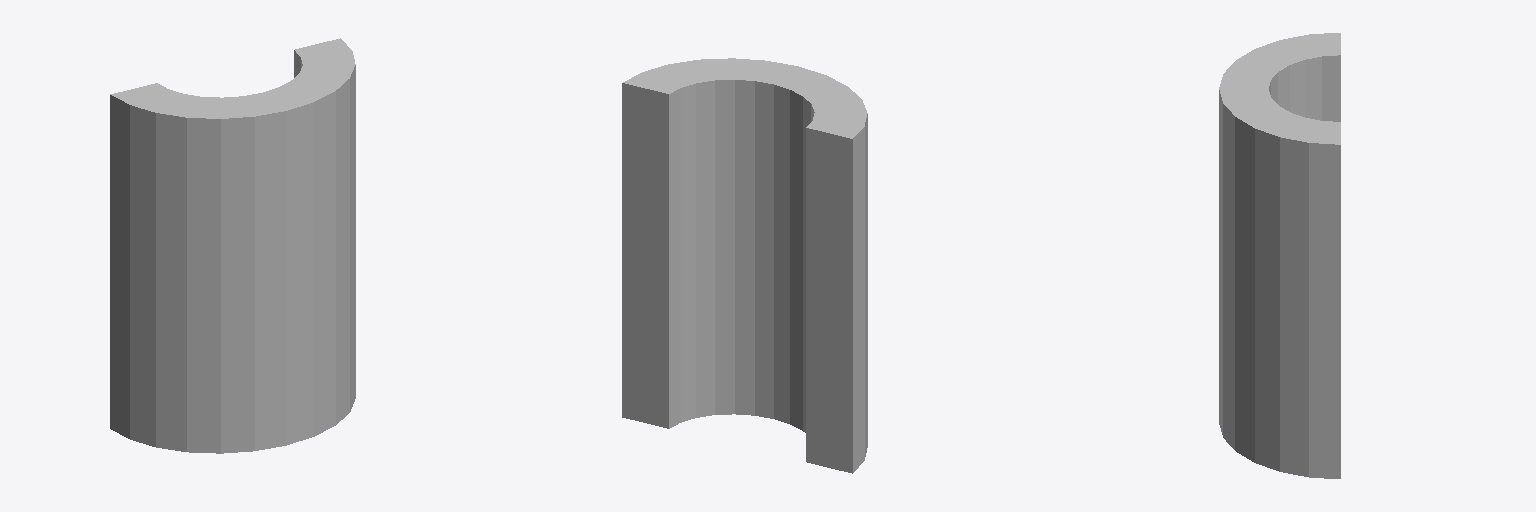
File: 3DM_VacuumTubeDoor.obj
The picture shows the model from 3 angles: view 1: azimuth 30°, elevation 25°; view 2: azimuth 150°, elevation 25°; view 3: azimuth 270°, elevation 25°; orthographic projection.
Parts seen in each view (by area): view 1: cylinderHollow_half; view 2: cylinderHollow_half; view 3: cylinderHollow_half.
Part boxes in pixels (bbox=[...]): cylinderHollow_half: bbox=[110, 38, 355, 453]; cylinderHollow_half: bbox=[622, 58, 867, 473]; cylinderHollow_half: bbox=[1219, 33, 1340, 478].
Bounding box in the file's own units: 1.44 × 2 × 0.66.